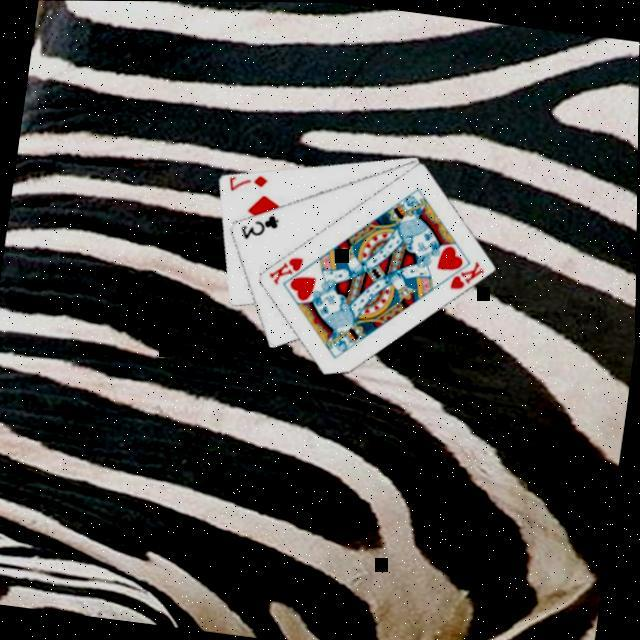3C: (234, 206, 280, 244)
7D: (222, 166, 269, 196)
KH: (263, 248, 305, 288), (444, 253, 486, 293)
